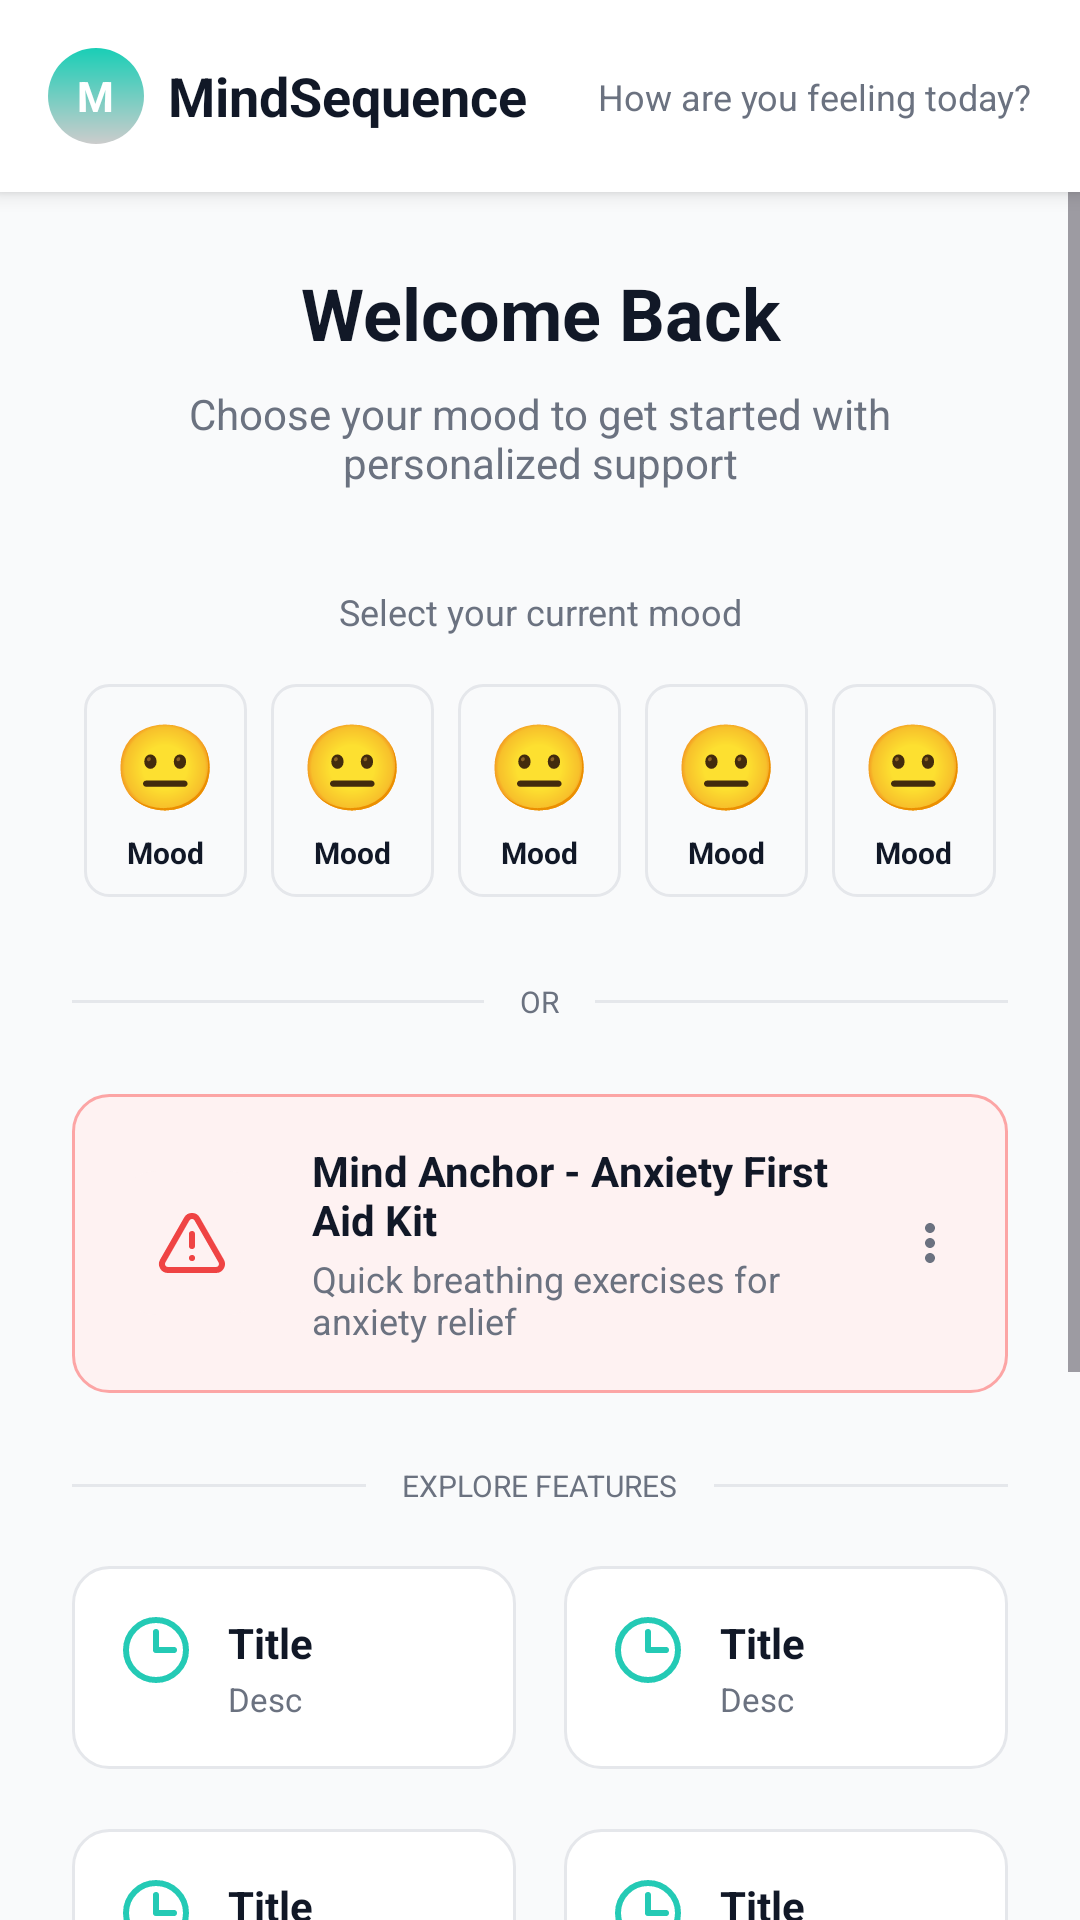

Named icons in this screenshot (1080px×1920px) and their bounding boxes, (x1, y1, x2, y2):
anchor alert: (159, 1213, 225, 1273)
overflow: (925, 1223, 935, 1263)
